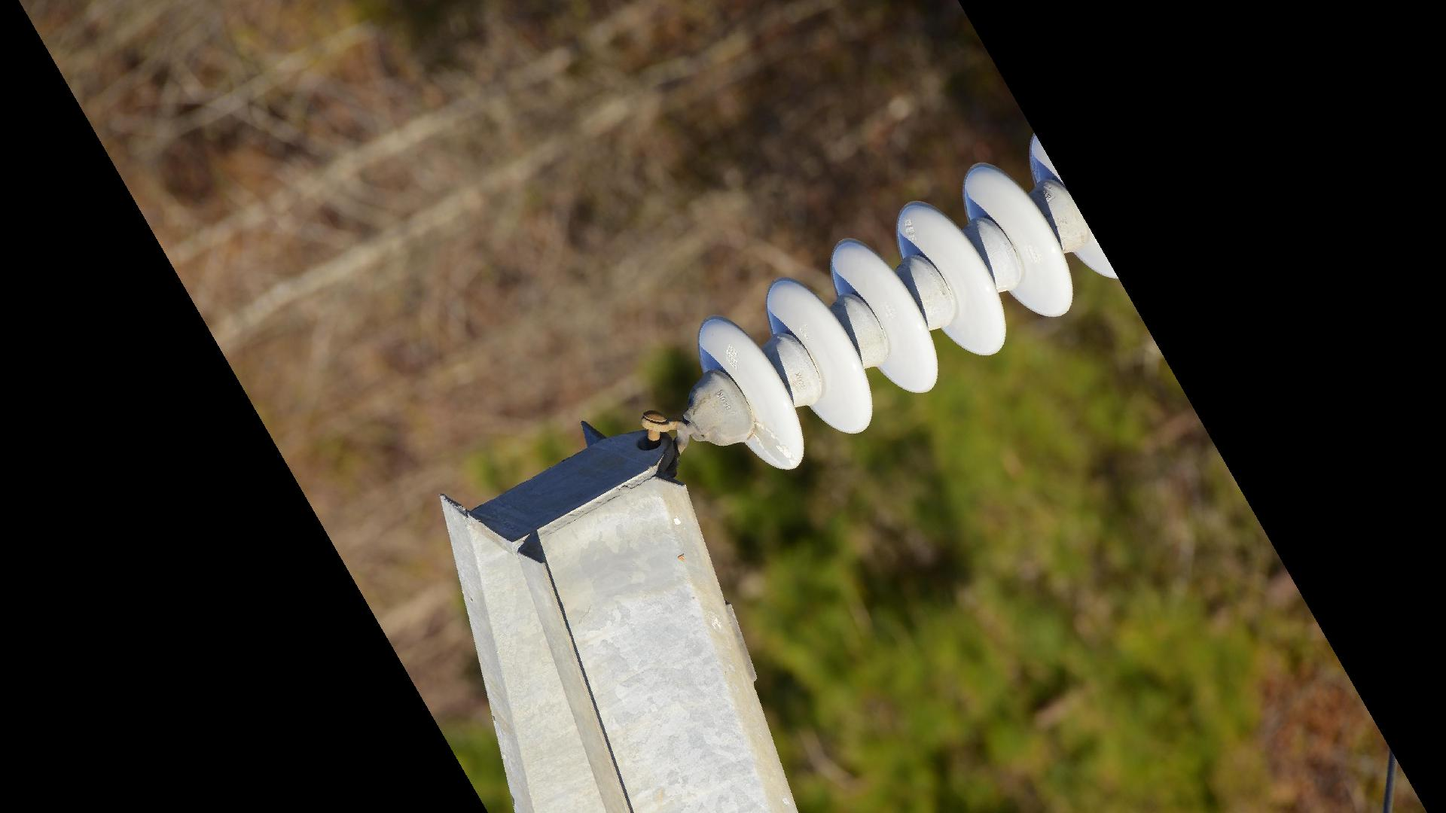insulator: (695, 132, 1120, 479)
insulator_flashover: (749, 420, 798, 471)
